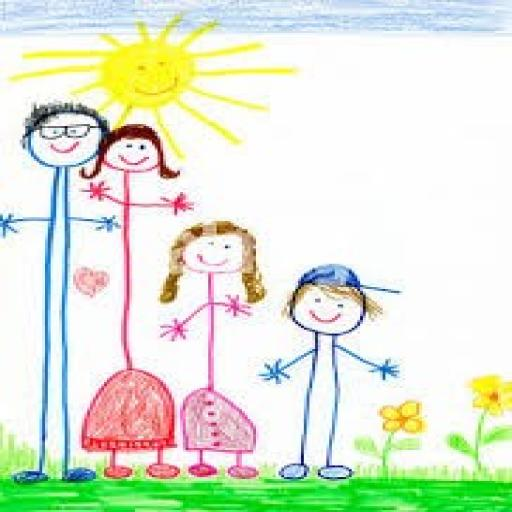person: (2, 90, 118, 487), (72, 123, 194, 483), (253, 257, 403, 484), (151, 218, 272, 479)
